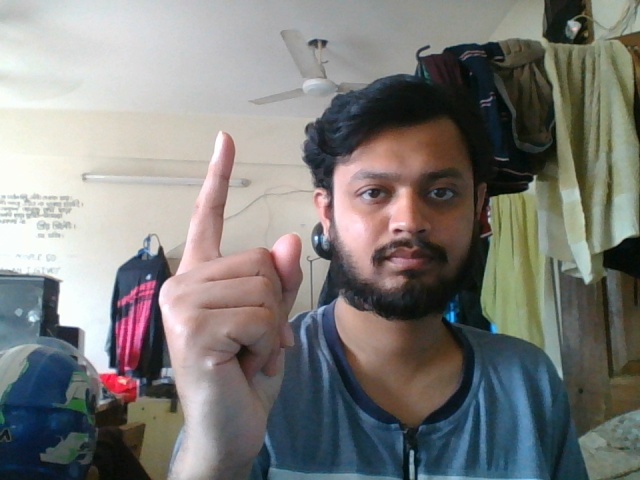u: (154, 120, 320, 445)
